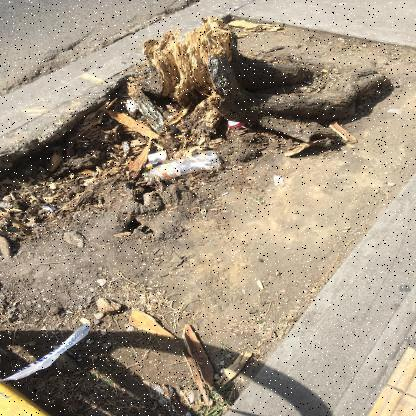cardboard: (228, 120, 247, 131)
other: (9, 324, 91, 382)
plastic: (141, 150, 222, 180)
